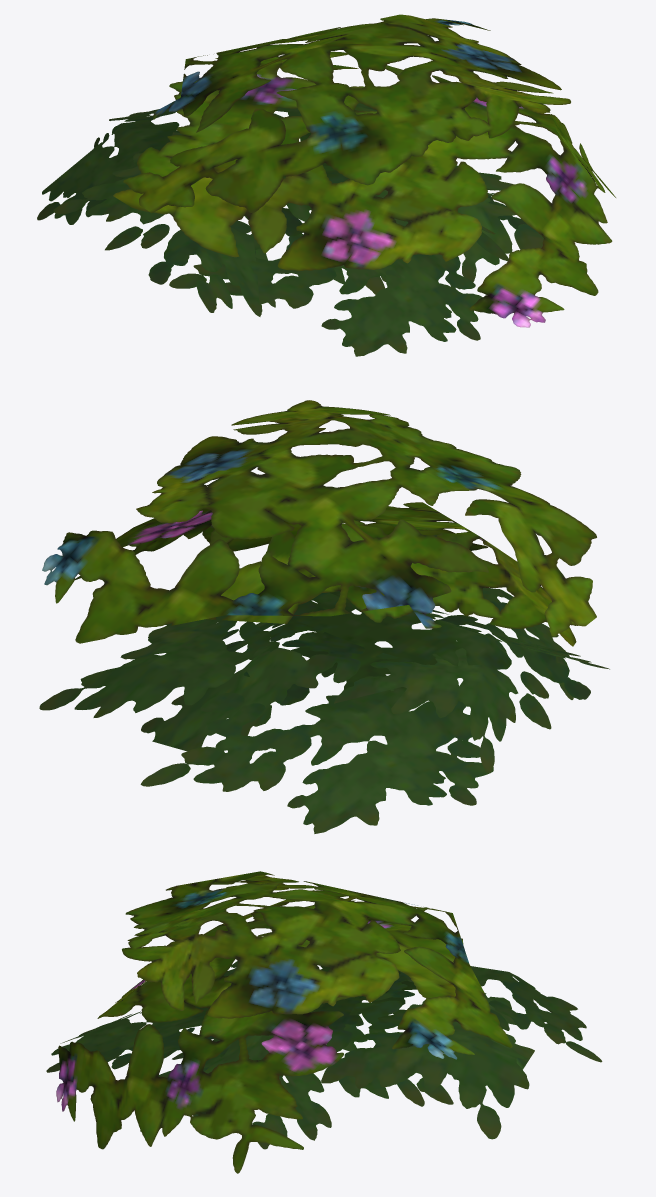
File: oVgtAIO1J.FBX
3 views of the same model, one above another, from view 1: azimuth 30°, elevation 25°; view 2: azimuth 150°, elevation 25°; view 3: azimuth 270°, elevation 25° (orthographic). The views are drawn at different scales.
Parts seen in each view (by area): view 1: oVgtAIO1J; view 2: oVgtAIO1J; view 3: oVgtAIO1J.
Boxes of the visible parts, box(x1,y1,x2,y2) form: oVgtAIO1J: box(37, 14, 615, 356); oVgtAIO1J: box(39, 400, 609, 833); oVgtAIO1J: box(46, 871, 602, 1173).
Size of the model in its own units: 12.96 by 15.12 by 5.
1 material, 1 textured.
